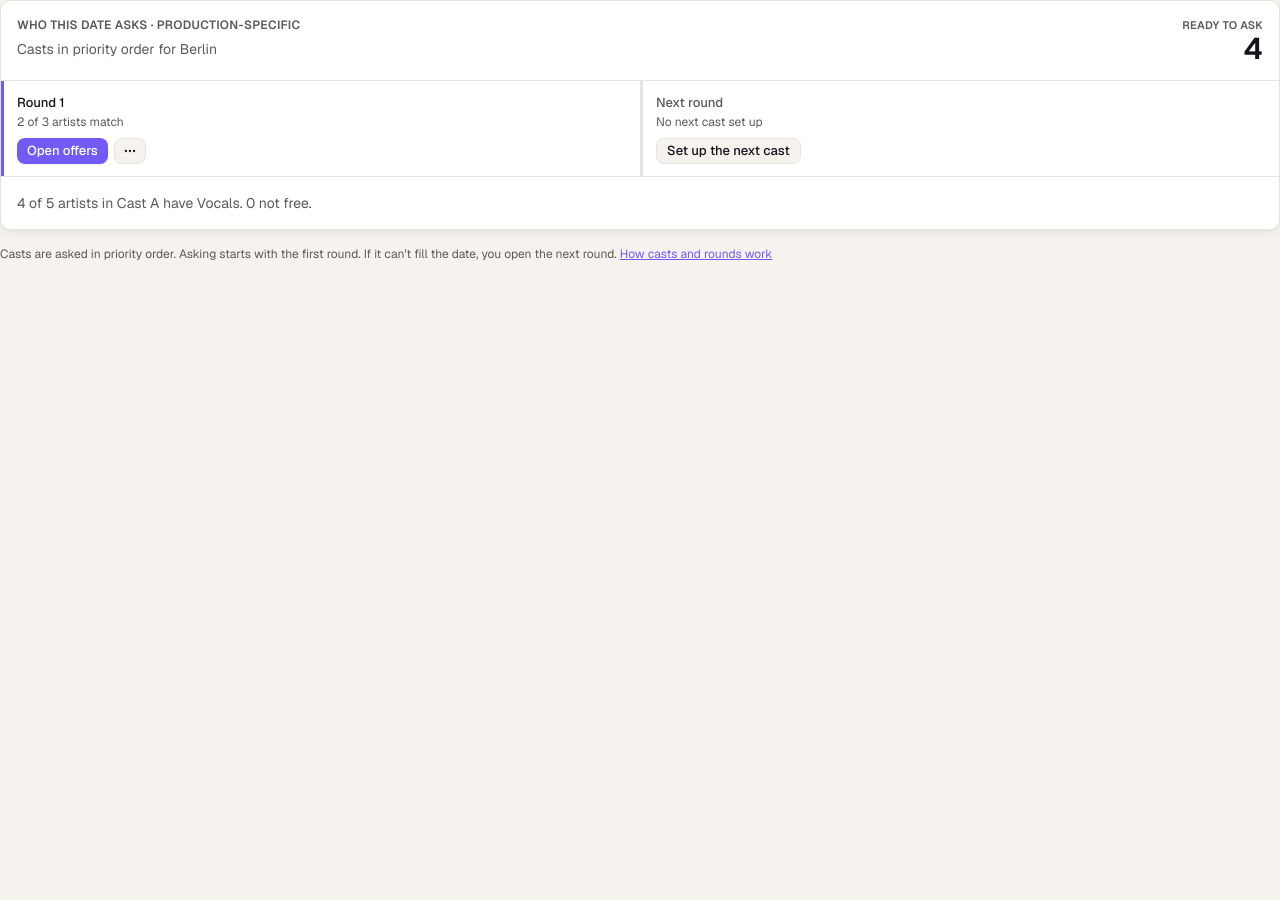
TierTimeline › uses cast-aware confirm copy when the next tier resolves to a single cast
The image size is (1280, 900).
Click the button "Open offers". click: (62, 151)
box: [17,138,108,164]
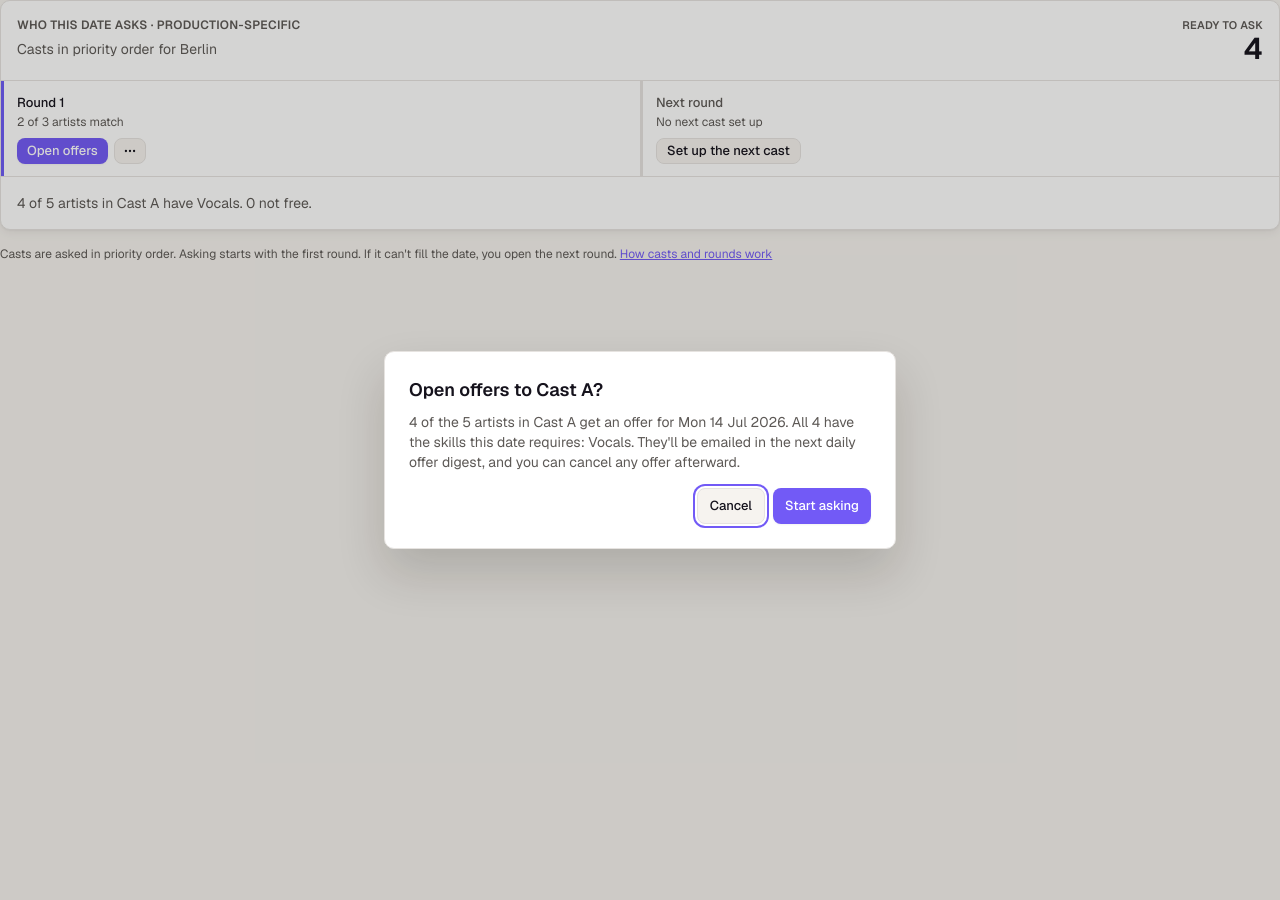
Expected: the heading "Open offers to Cast A?" is shown, [409,378,603,401]
Expected: the text "4 of the 5 artists in Cast A get an offer" is shown, [409,413,856,471]
